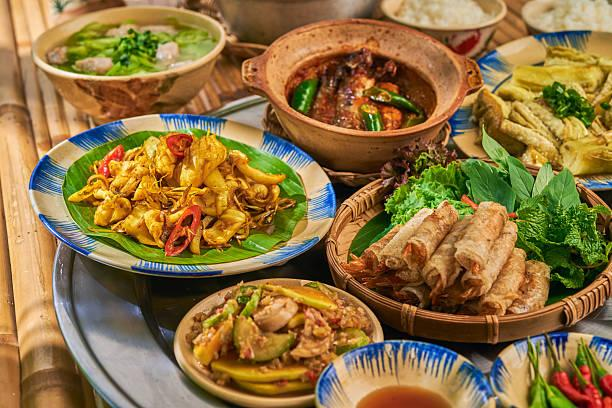Braised Crucian Carp: (326, 164, 609, 342), (26, 114, 326, 277), (240, 16, 471, 174), (173, 278, 376, 406), (447, 31, 610, 187), (31, 4, 223, 124)
